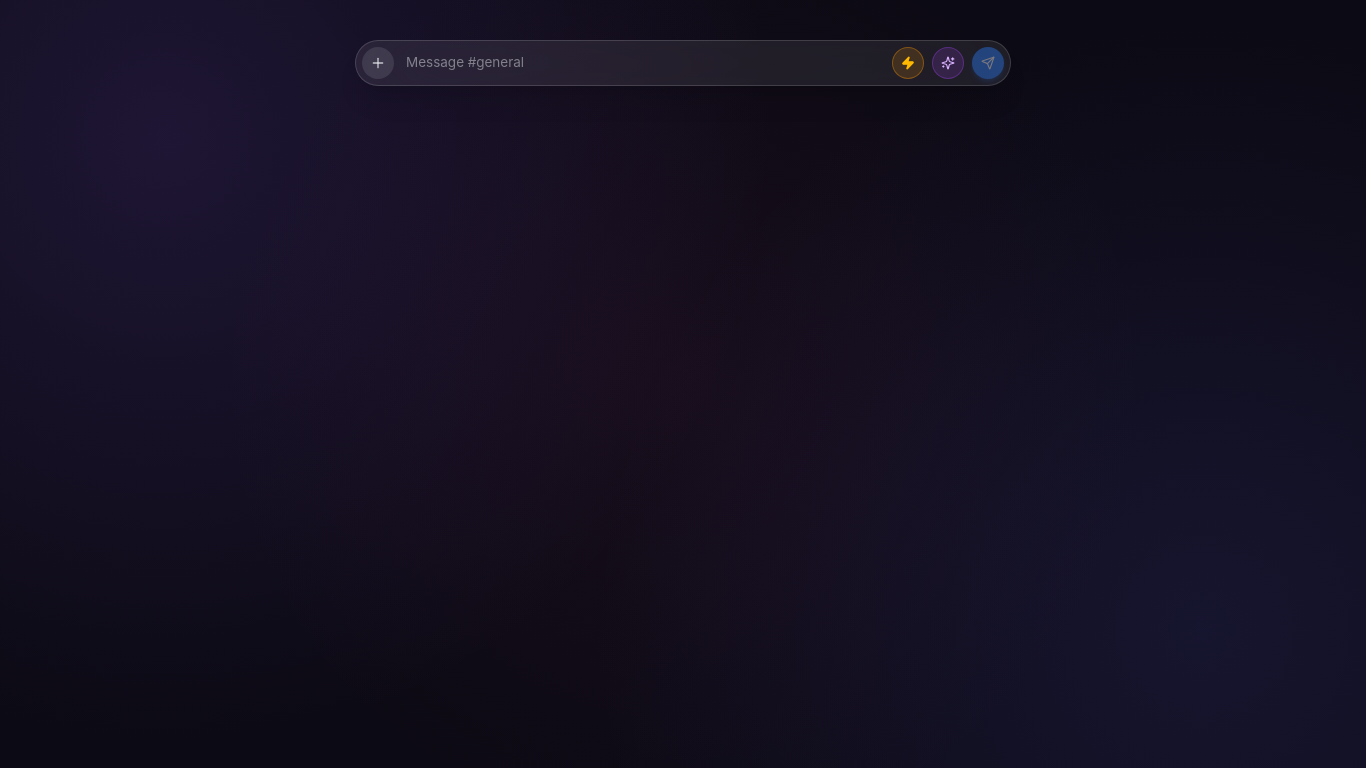
Test: Chat UI components › MessageComposer shows @mention autocomplete popup when typing @ and inserts selected display name
The image size is (1366, 768).
Type "Hello @al" into the text box with placeholder "Message #general" at (643,63), box [402,48,884,78]
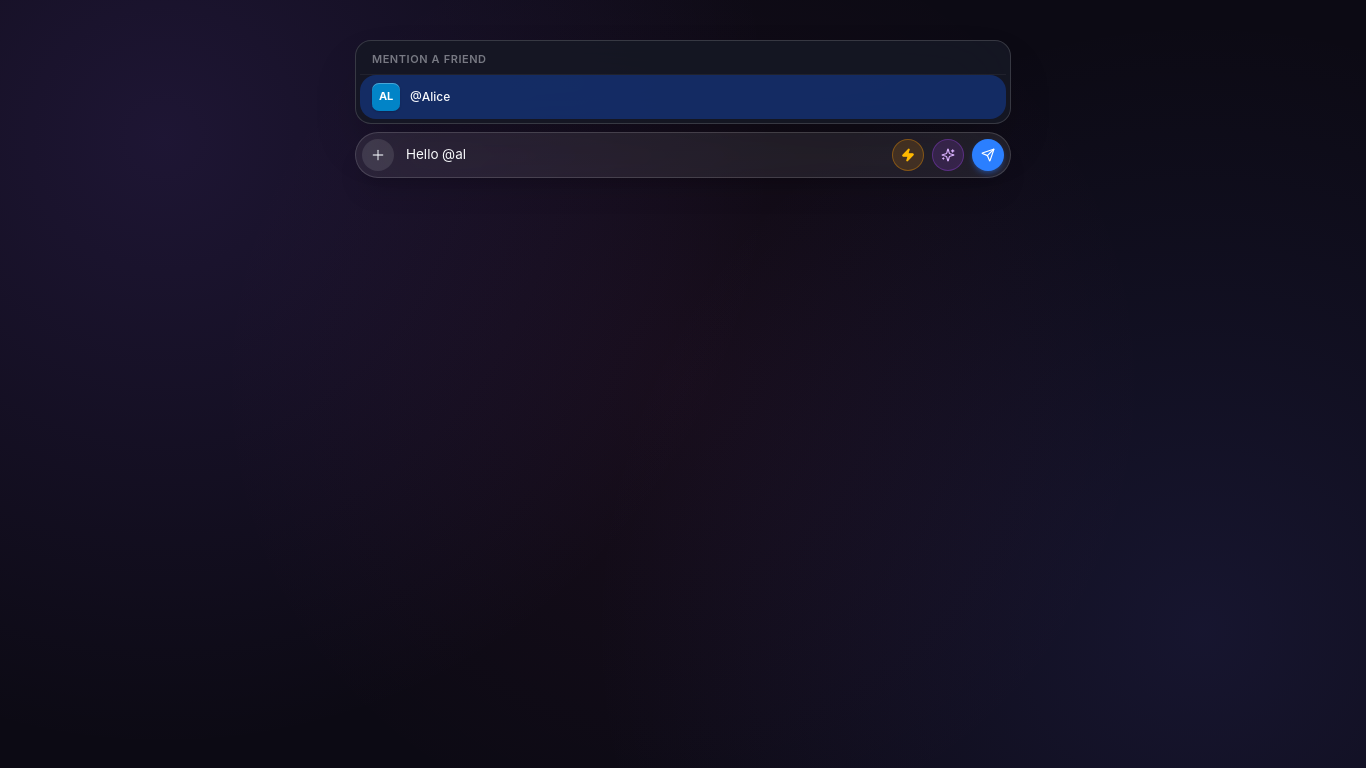
Expected: the element with test id "mention-autocomplete" is shown, [355,40,1011,124]
Expected: the element with test id "mention-autocomplete" shows "Alice"
Click the button with test id "mention-option-u-alice" at (430,96), box [360,74,1006,118]
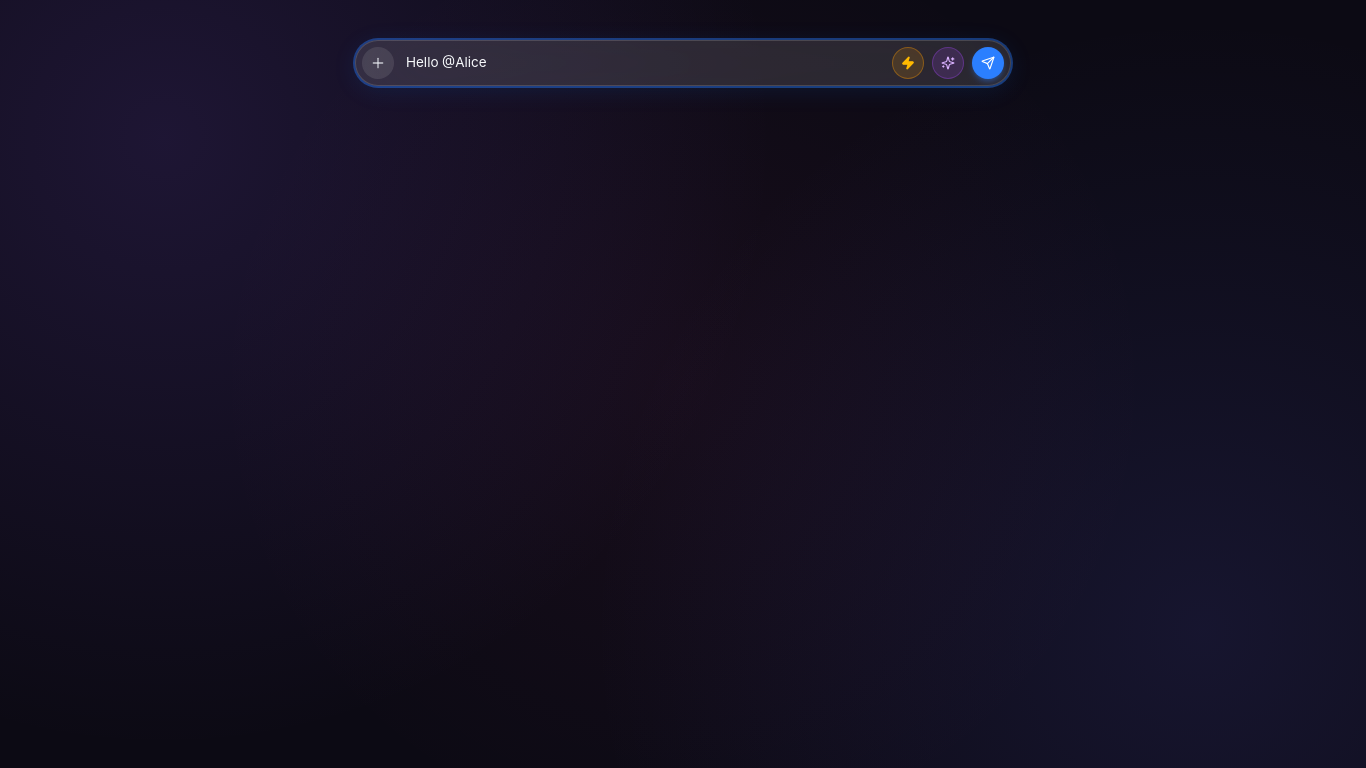
Expected: the text box holds "Hello @Alice ", [402,48,884,78]
